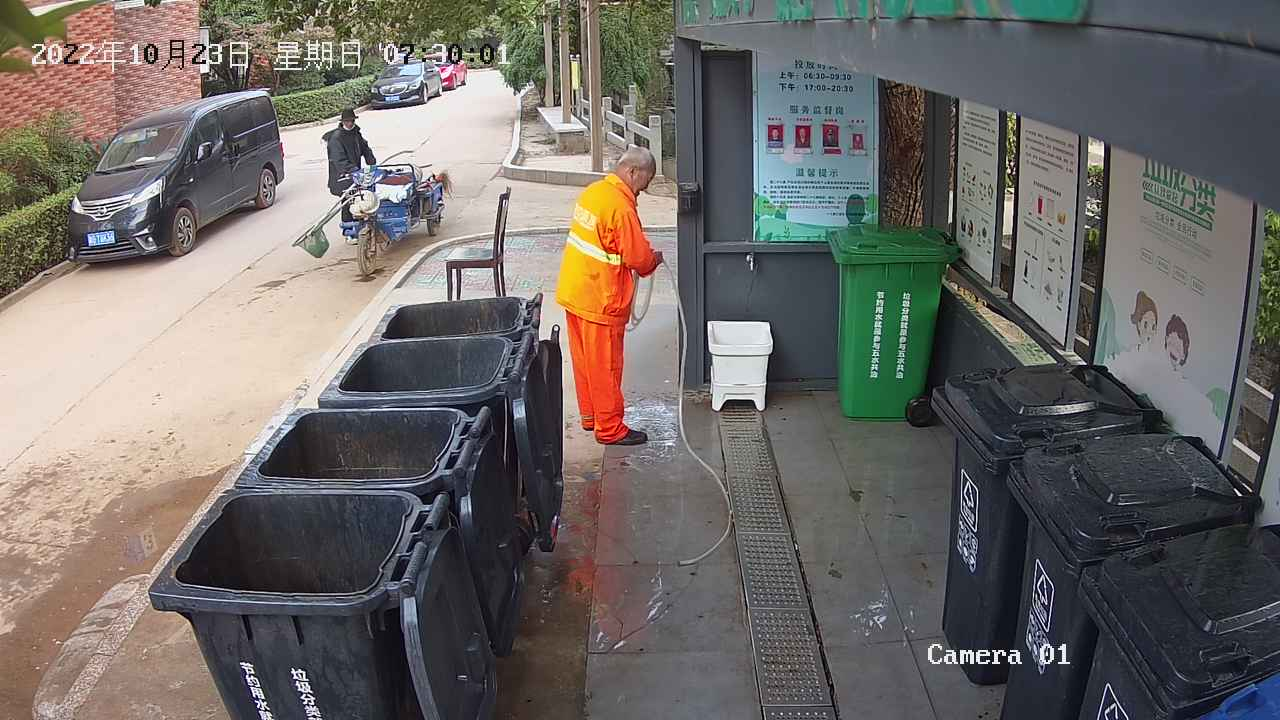person: (319, 102, 382, 240)
worker: (550, 139, 667, 450)
